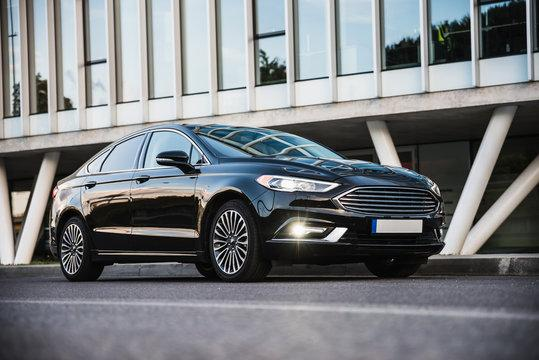Sedan: (33, 110, 480, 320)
